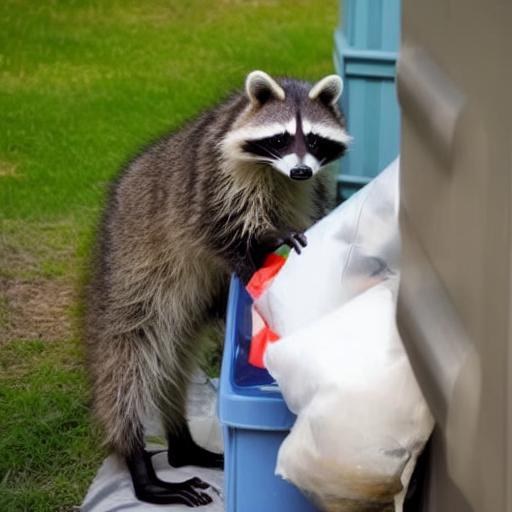raccoon: (61, 64, 360, 480)
